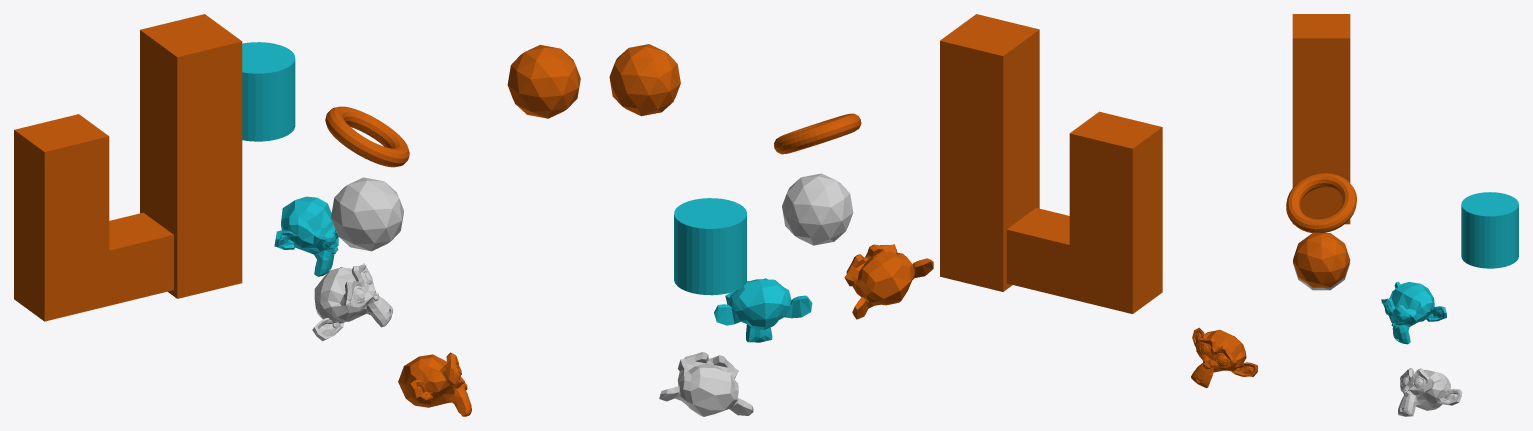
File: monkey.obj
3 renders of one model, left to right at view 1: azimuth 30°, elevation 25°; view 2: azimuth 150°, elevation 25°; view 3: azimuth 270°, elevation 25°, orthographic. The views are drawn at different scales.
Parts seen in each view (by area): view 1: Cube, Cylinder, Icosphere, Icosphere.001, Suzanne.002, Suzanne.001, Suzanne, Torus; view 2: Cube, Cylinder, Icosphere, Icosphere.001, Suzanne, Suzanne.002, Suzanne.001, Torus; view 3: Cube, Cylinder, Icosphere.001, Torus, Suzanne, Suzanne.001, Suzanne.002.
Boxes of the visible parts, box(x1,y1,x2,y2) form: Cube: box(14, 14, 242, 321); Cylinder: box(242, 42, 295, 141); Icosphere: box(331, 177, 403, 251); Icosphere.001: box(507, 45, 580, 118); Suzanne.002: box(312, 263, 393, 341); Suzanne.001: box(274, 196, 338, 276); Suzanne: box(398, 352, 471, 416); Torus: box(325, 106, 409, 167); Cube: box(940, 14, 1162, 313); Cylinder: box(674, 198, 746, 295); Icosphere: box(782, 173, 853, 245); Icosphere.001: box(609, 44, 680, 116); Suzanne: box(844, 244, 933, 319); Suzanne.002: box(659, 352, 753, 416); Suzanne.001: box(714, 278, 812, 342); Torus: box(774, 113, 861, 154); Cube: box(1292, 14, 1350, 224); Cylinder: box(1461, 192, 1518, 268); Icosphere.001: box(1293, 233, 1350, 287); Torus: box(1286, 173, 1356, 232); Suzanne: box(1191, 327, 1257, 387); Suzanne.001: box(1381, 281, 1446, 344); Suzanne.002: box(1398, 368, 1462, 416).
Size of the model in its own units: 16.83 by 11.62 by 11.39.
